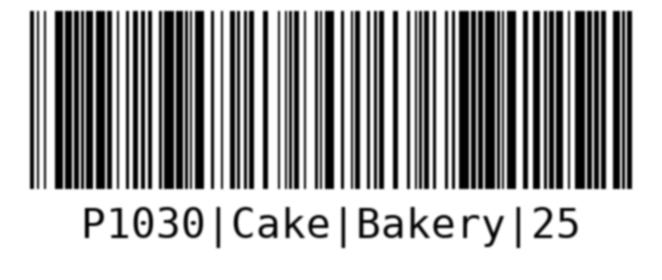milk: (26, 5, 637, 248)
